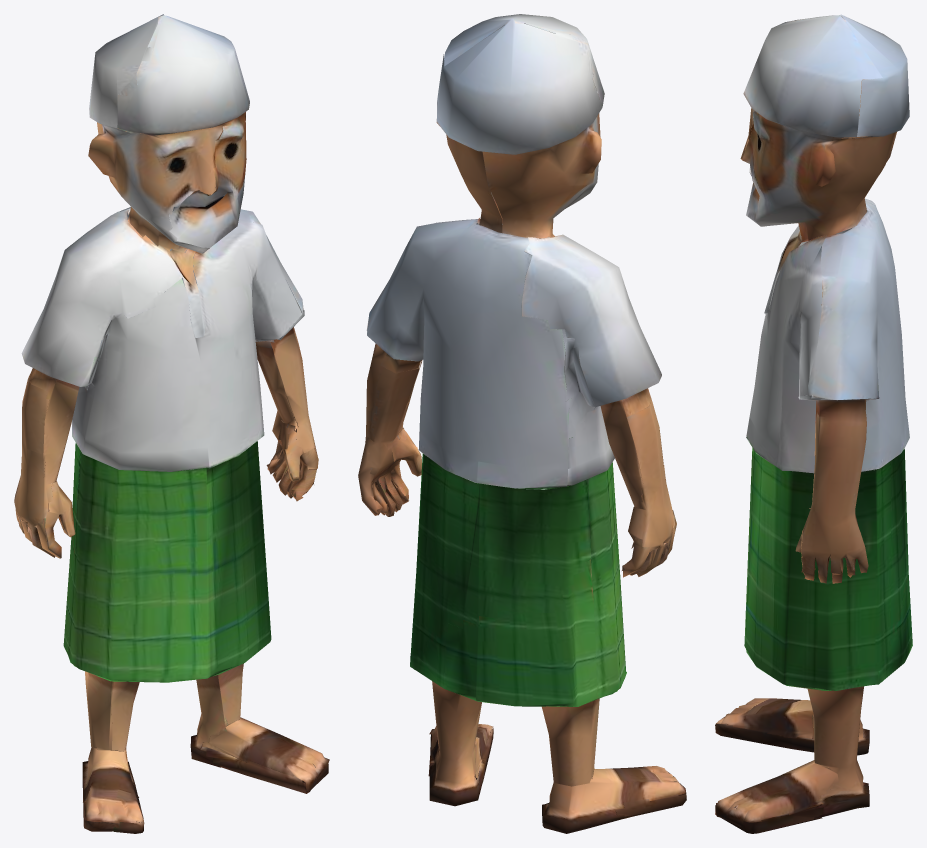
Rendered from npc_haji_dudung.glb.
3 views of the same model, side by side, from view 1: azimuth 30°, elevation 25°; view 2: azimuth 150°, elevation 25°; view 3: azimuth 270°, elevation 25° (orthographic). The views are drawn at different scales.
Visible parts, largest first — view 1: torso, leg_r, leg_l; view 2: torso, leg_r, leg_l; view 3: torso, leg_l, leg_r.
Part boxes in pixels (left/top/right/bottom): torso: left=21, top=14, right=305, bottom=454; leg_r: left=14, top=419, right=210, bottom=833; leg_l: left=190, top=376, right=329, bottom=793; torso: left=366, top=14, right=663, bottom=476; leg_r: left=475, top=437, right=686, bottom=833; leg_l: left=358, top=399, right=493, bottom=806; torso: left=740, top=14, right=909, bottom=484; leg_l: left=715, top=417, right=912, bottom=833; leg_r: left=715, top=417, right=912, bottom=755.
Size of the model in its own units: 0.6508 by 1.64 by 0.3864.
Materials: 1 (1 with a texture image).
